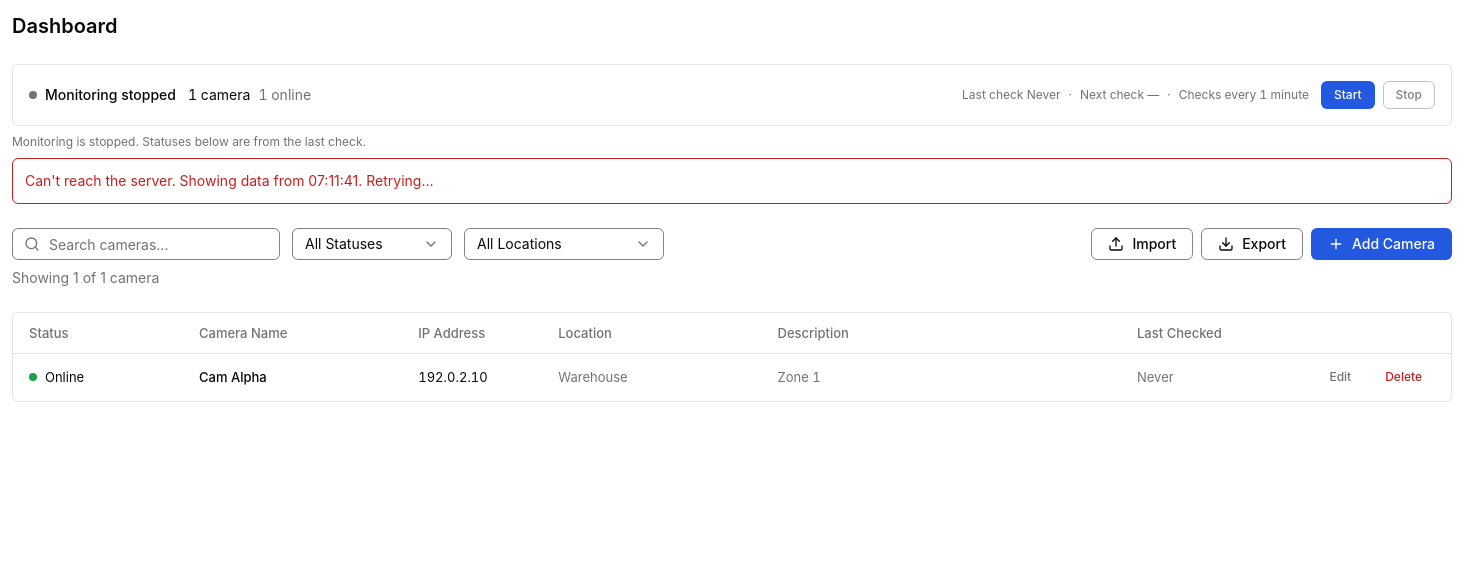
Test case: CameraToolbar filter select labels and clear filters › Clear filters button inside 'No cameras match the current filters' state restores the full list
The width and height of the screenshot is (1464, 563).
expect the text "Cam Alpha" is shown: met, box [199,369,267,385]
Note: Filter by impossible query
In the field with test id "camera-search-input": point(146, 244) [12,228,280,260], type "NonExistent"
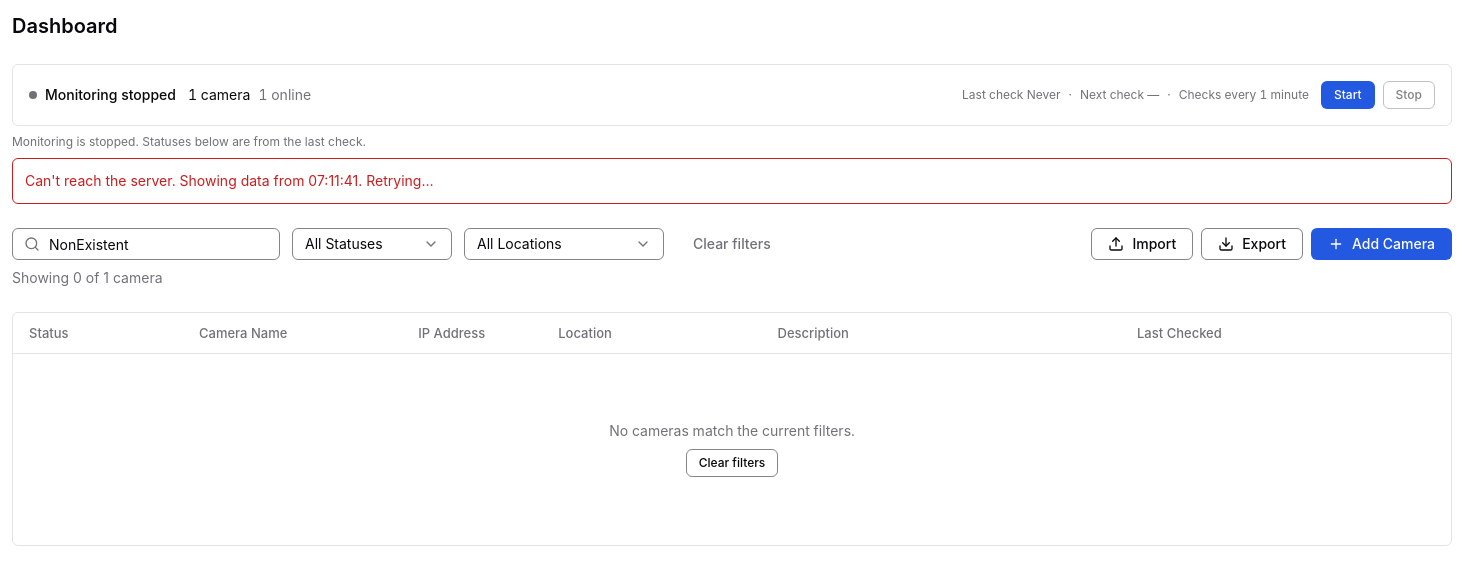
expect the cell with test id "filtered-empty-cameras-state" is shown: met, box [13,353,1451,545]
expect the button with test id "table-clear-filters-button" is shown: met
Note: Click Clear filters in empty state table
Click the button with test id "table-clear-filters-button": point(732, 463) [686,449,778,477]
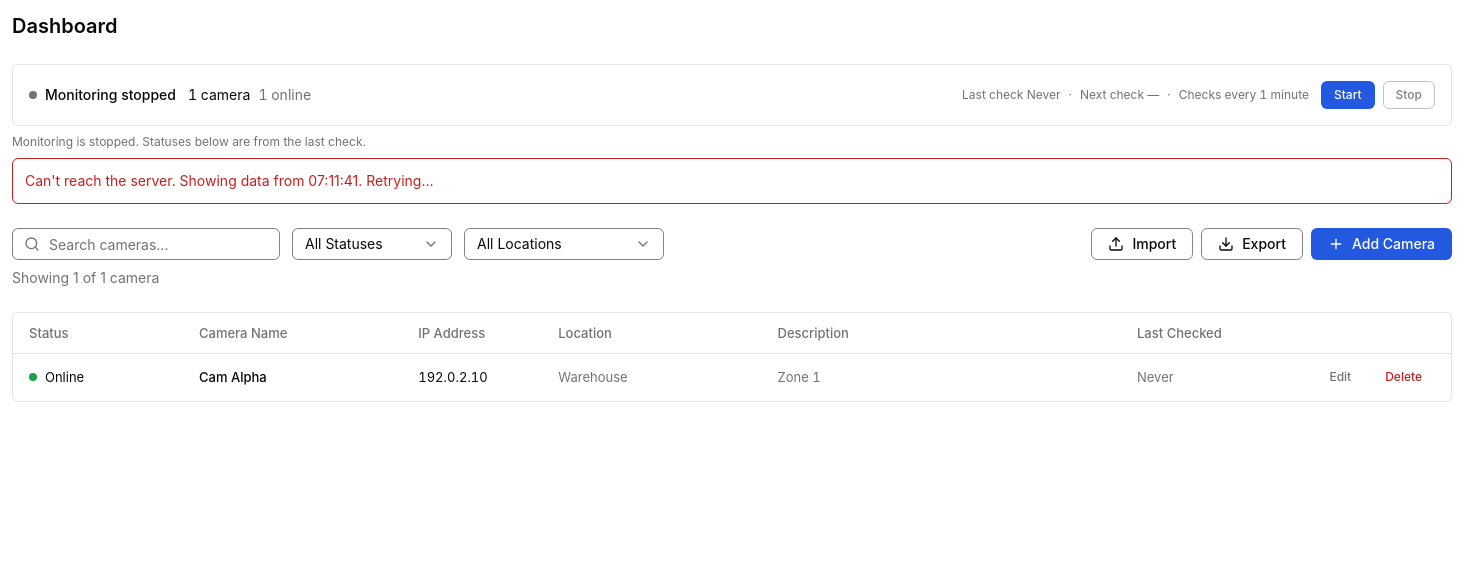
expect the text "Cam Alpha" is shown: met, box [199,369,267,385]
expect the cell with test id "filtered-empty-cameras-state" is gone: met
expect the field with test id "camera-search-input" is empty: met, box [12,228,280,260]
